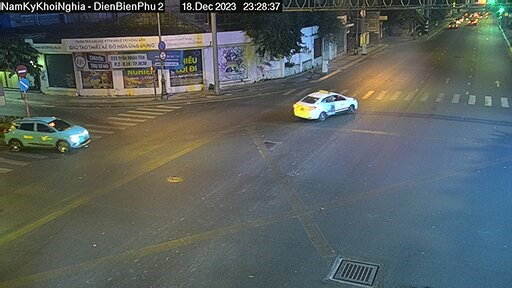car: (5, 106, 104, 155), (284, 85, 363, 121)
